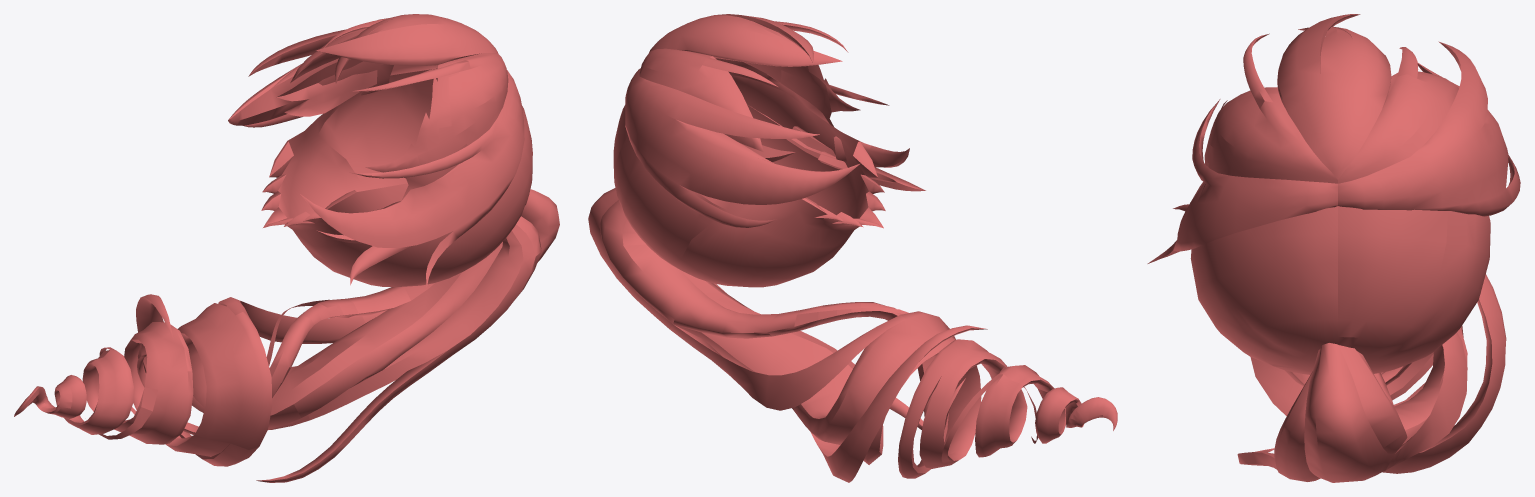
The model's file is hair.glb.
3 renders of one model, left to right at view 1: azimuth 30°, elevation 25°; view 2: azimuth 150°, elevation 25°; view 3: azimuth 270°, elevation 25°, orthographic. The views are drawn at different scales.
Parts seen in each view (by area): view 1: 头发模型; view 2: 头发模型; view 3: 头发模型.
Boxes of the visible parts, <box> form: 头发模型: <box>14,14,559,482</box>; 头发模型: <box>588,14,1117,482</box>; 头发模型: <box>1147,14,1520,482</box>.
Size of the model in its own units: 0.00439 by 0.00317 by 0.00209.
